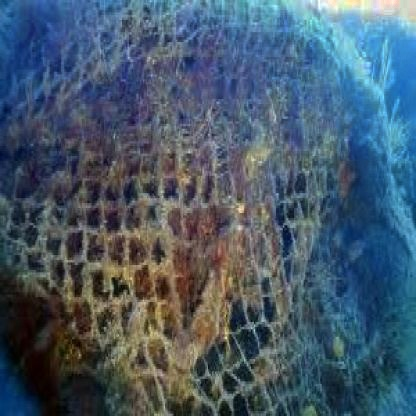net: (1, 3, 388, 408)
